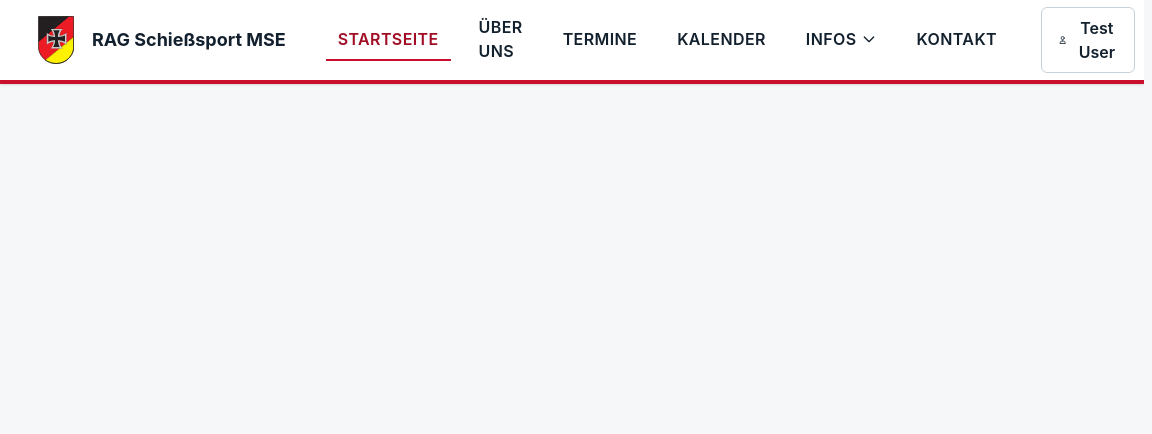
Navigation › shows member documents in the infos dropdown for authenticated members
Click the button "Infos" at coordinates (841, 40), box [794, 19, 888, 61]
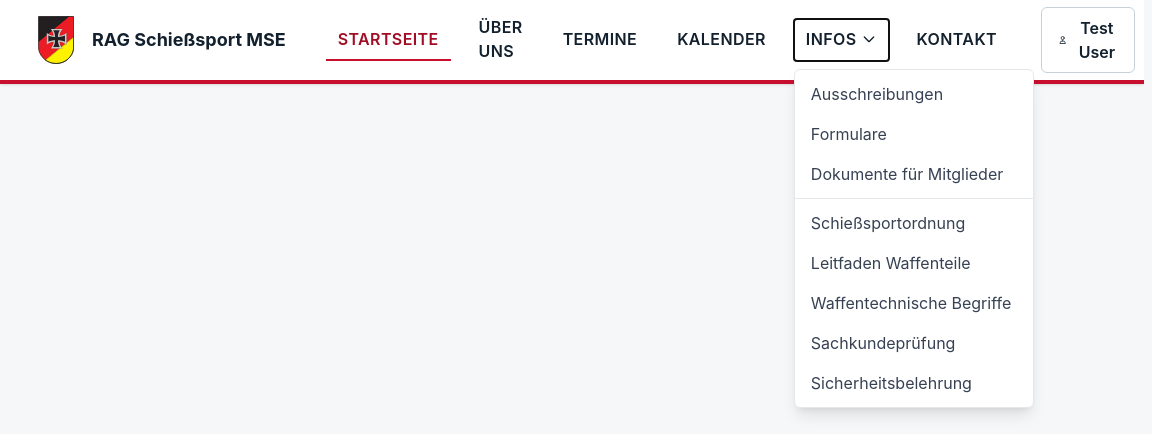
Now the link "Dokumente für Mitglieder" is shown, box [811, 164, 1003, 184]
